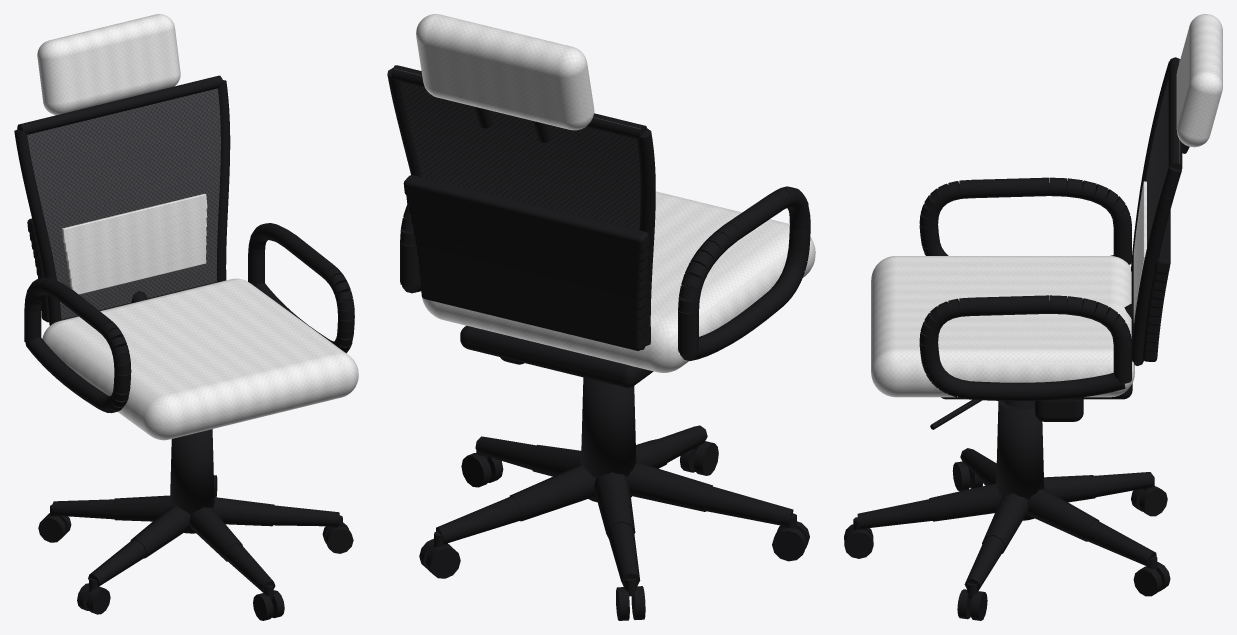
Rendered from ofis-kreslosi-ergo.glb.
3 renders of one model, left to right at view 1: azimuth 30°, elevation 25°; view 2: azimuth 150°, elevation 25°; view 3: azimuth 270°, elevation 25°, orthographic. The views are drawn at different scales.
Parts seen in each view (by area): view 1: furniture; view 2: furniture; view 3: furniture.
Boxes of the visible parts, box(x1,y1,x2,y2) form: furniture: box(14, 14, 358, 620); furniture: box(387, 14, 815, 620); furniture: box(844, 14, 1222, 620).
Bounding box in the file's own units: 0.6989 × 1.15 × 0.7751.
Materials: 4 (3 with a texture image).
